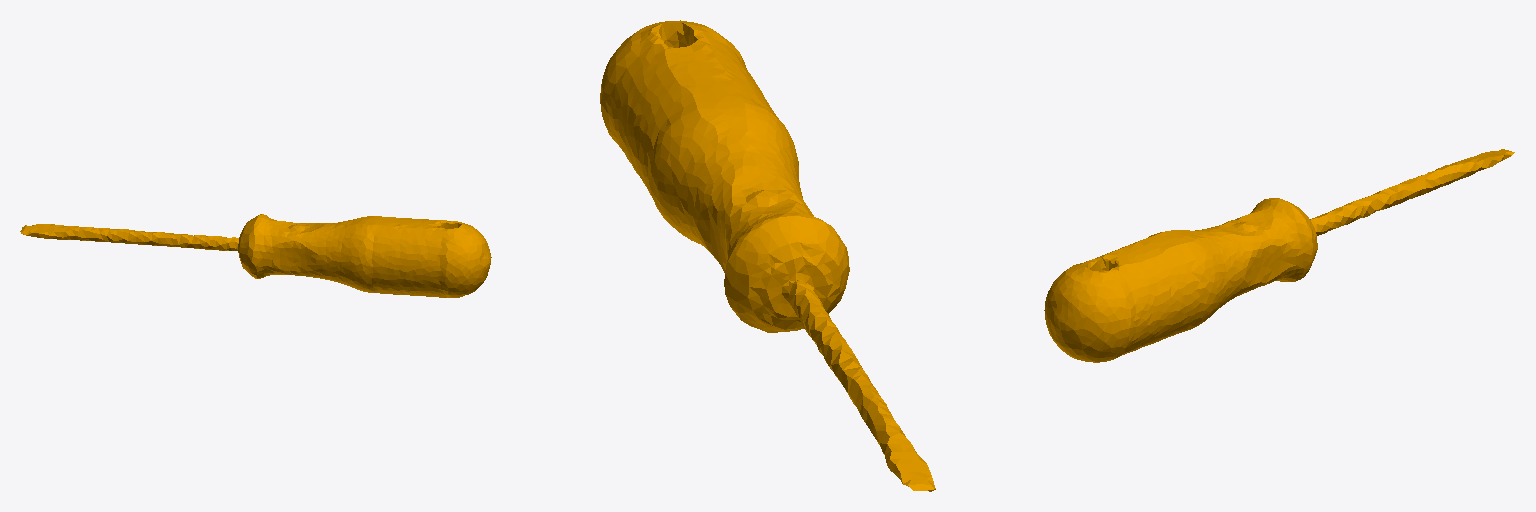
URDF robot description (flatheadScrewdriver):
<?xml version="1.0" encoding="UTF-8"?>
<robot name="flatheadScrewdriver">
	<link name="base">
		<collision>
			<geometry>
				<mesh filename="flatheadScrewdriver.obj"/>
			</geometry>
			<origin xyz="0 0 0"/>
		</collision>
		<visual>
			<geometry>
				<mesh filename="flatheadScrewdriver.obj"/>
			</geometry>
			<origin xyz="0 0 0"/>
		</visual>
		<inertial>
			<mass value="0.0984"/>
			<inertia ixx="6.998011534930455e-05" ixy="6.104526992632144e-05" ixz="-3.372681780635787e-06" iyy="7.450760754197991e-05" iyz="3.262747668945785e-06" izz="0.00013317393463979437" />
			<origin xyz="0.035839968696152434 -0.034482678542974 -0.0009290463019039919"/>
		</inertial>
	</link>
</robot>

--- Render facts (derived) ---
The picture shows the robot from 3 angles, left to right: view 1: azimuth 30°, elevation 25°; view 2: azimuth 150°, elevation 25°; view 3: azimuth 270°, elevation 25°; orthographic projection.
Model flatheadScrewdriver with 1 links and 0 joints (none), rooted at base, posed all joints at 0.
Links seen in each view (by area): view 1: base; view 2: base; view 3: base.
Boxes of the visible links, x1=… form: base: x1=20, y1=214, x2=491, y2=297; base: x1=600, y1=20, x2=935, y2=491; base: x1=1044, y1=149, x2=1514, y2=362.
Size in the robot's own frame: 0.1618 by 0.1566 by 0.0351 metres.
1 mesh visuals loaded from 1 distinct referenced files (1 OBJ).